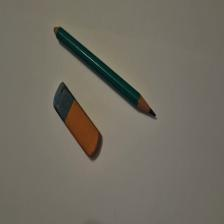eraser: (54, 82, 102, 158)
pencil: (55, 27, 157, 118)
